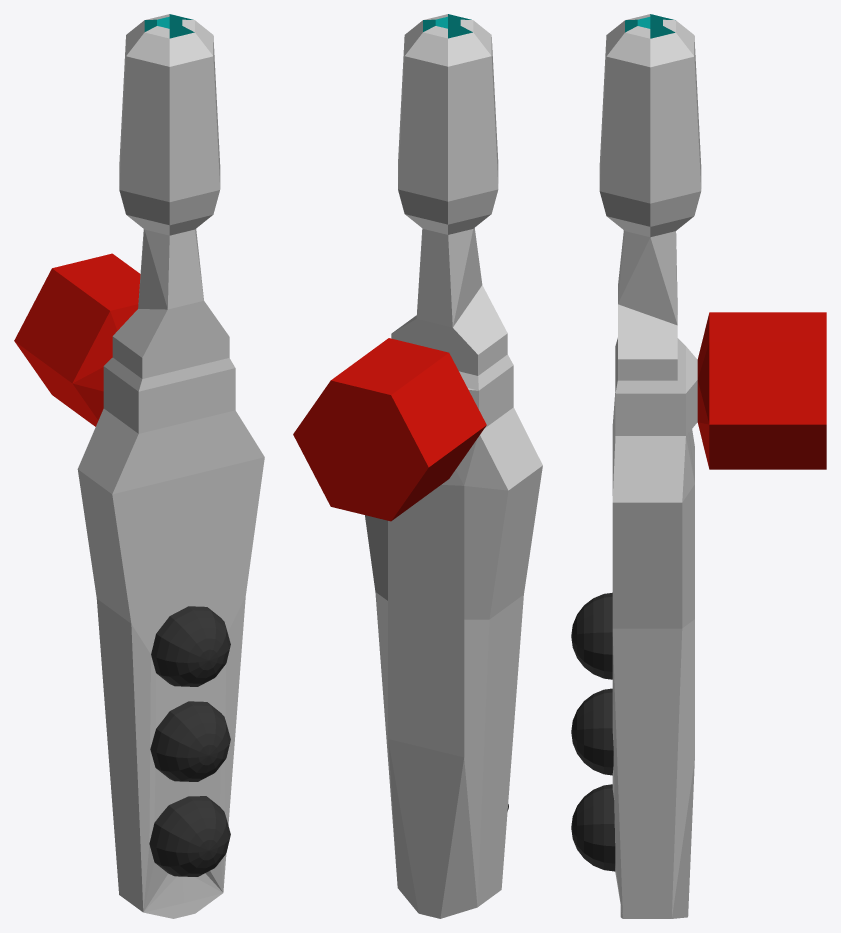
The model's file is PlazmaCannon.fbx.
The picture shows the model from 3 angles, left to right: view 1: azimuth 30°, elevation 25°; view 2: azimuth 150°, elevation 25°; view 3: azimuth 270°, elevation 25°; orthographic projection.
Parts seen in each view (by area): view 1: PlazmaCannon; view 2: PlazmaCannon; view 3: PlazmaCannon.
Part boxes in pixels (x1=…): PlazmaCannon: x1=14, y1=14, x2=264, y2=918; PlazmaCannon: x1=293, y1=14, x2=542, y2=918; PlazmaCannon: x1=571, y1=14, x2=826, y2=918.
Size of the model in its own units: 151 by 836 by 218.
